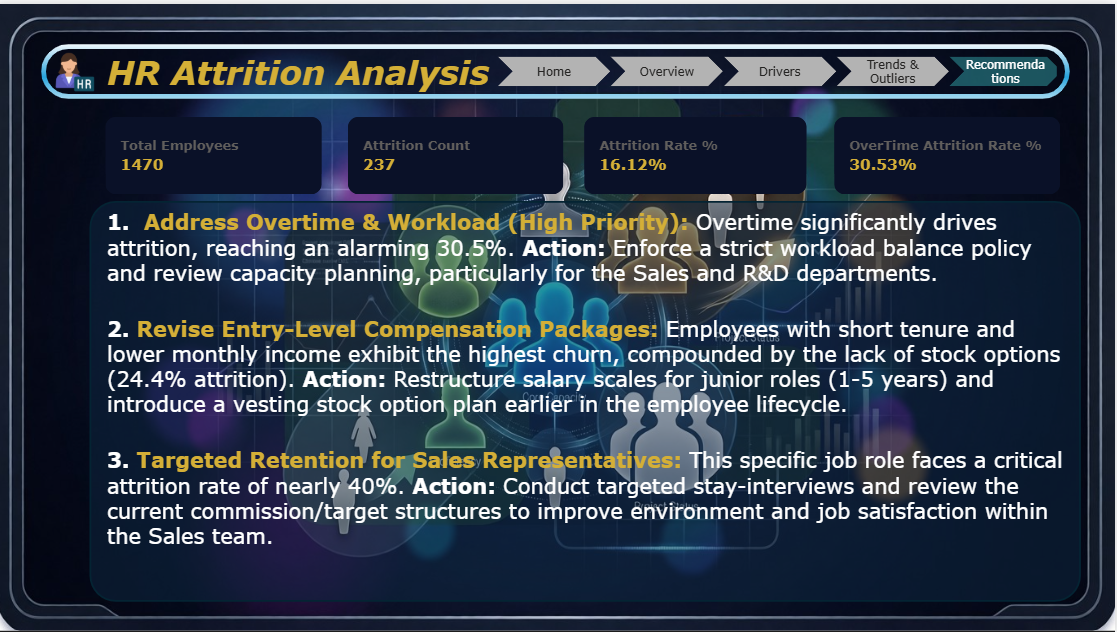

Layout of this report page (visuals, bound fields, positions):
{"tool":"powerbi","page":{"name":"Recommendations","canvas":[1280,720],"ordinal":4},"visuals":[{"type":"textbox","box":[123.1,49.5,451.2,56.7],"z":0},{"type":"image","box":[68.8,48.3,45.8,57.9],"z":1000},{"type":"cardVisual","fields":{"Data":["Measure.Total Employees"]},"box":[114.6,117,271.4,112.2],"z":2000},{"type":"cardVisual","fields":{"Data":["Measure.Attrition Count"]},"box":[390.9,117,270.2,112.2],"z":3000},{"type":"cardVisual","fields":{"Data":["Measure.Attrition Rate %"]},"box":[661.1,117,278.7,112.2],"z":4000},{"type":"cardVisual","fields":{"Data":["Measure.OverTime Attrition Rate %"]},"box":[947.1,117,282.3,112.2],"z":5000},{"type":"pageNavigator","box":[574.3,60.3,639.4,35],"z":6000},{"type":"textbox","box":[122.9,230,1114.3,444.3],"z":6001}]}

Visuals, with their boxes in screenshot pixels (x1, y1, x2, y2), scaled from the page's 1280x720 canvas onto the 1117x632 screenshot:
textbox: [107,43,501,93]
image: [60,42,100,93]
cardVisual - Measure.Total Employees: [100,103,337,201]
cardVisual - Measure.Attrition Count: [341,103,577,201]
cardVisual - Measure.Attrition Rate %: [577,103,820,201]
cardVisual - Measure.OverTime Attrition Rate %: [826,103,1073,201]
pageNavigator: [501,53,1059,84]
textbox: [107,202,1080,592]
